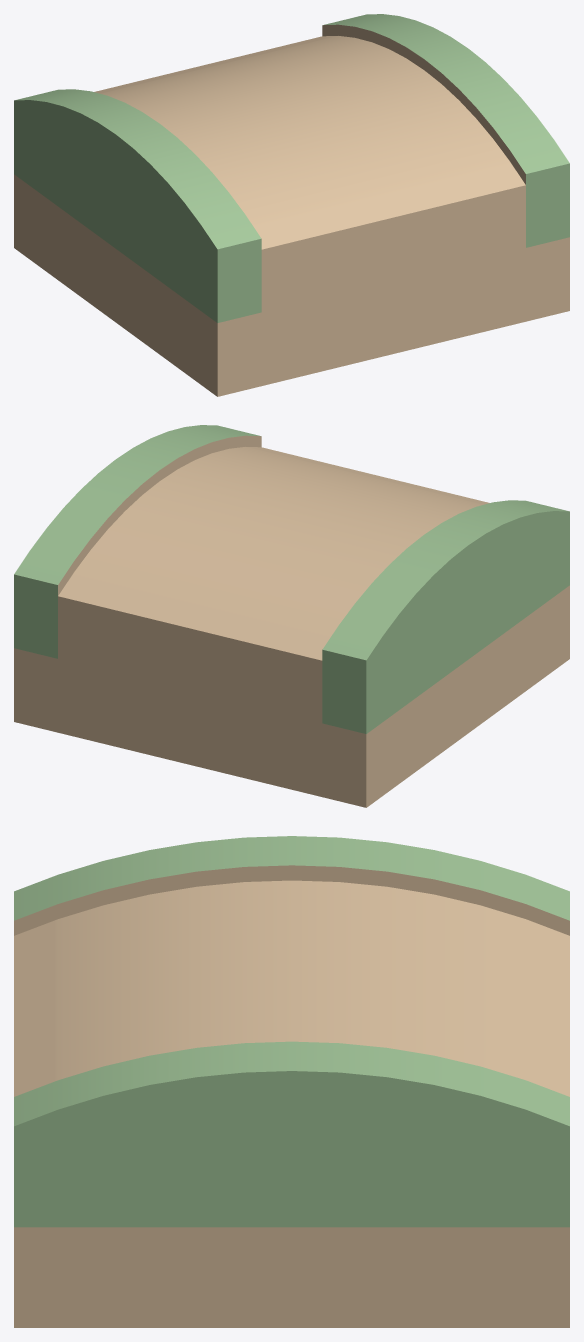
Rendered from tile_083.glb.
3 views of the same model, one above another, from view 1: azimuth 30°, elevation 25°; view 2: azimuth 150°, elevation 25°; view 3: azimuth 270°, elevation 25° (orthographic). The views are drawn at different scales.
Parts seen in each view (by area): view 1: tile_083; view 2: tile_083; view 3: tile_083.
Boxes of the visible parts, x1,y1,x2,y2 form: tile_083: (14,14,569,396); tile_083: (14,425,569,807); tile_083: (14,836,569,1327).
Bounding box in the file's own units: 1 × 0.51 × 1.
